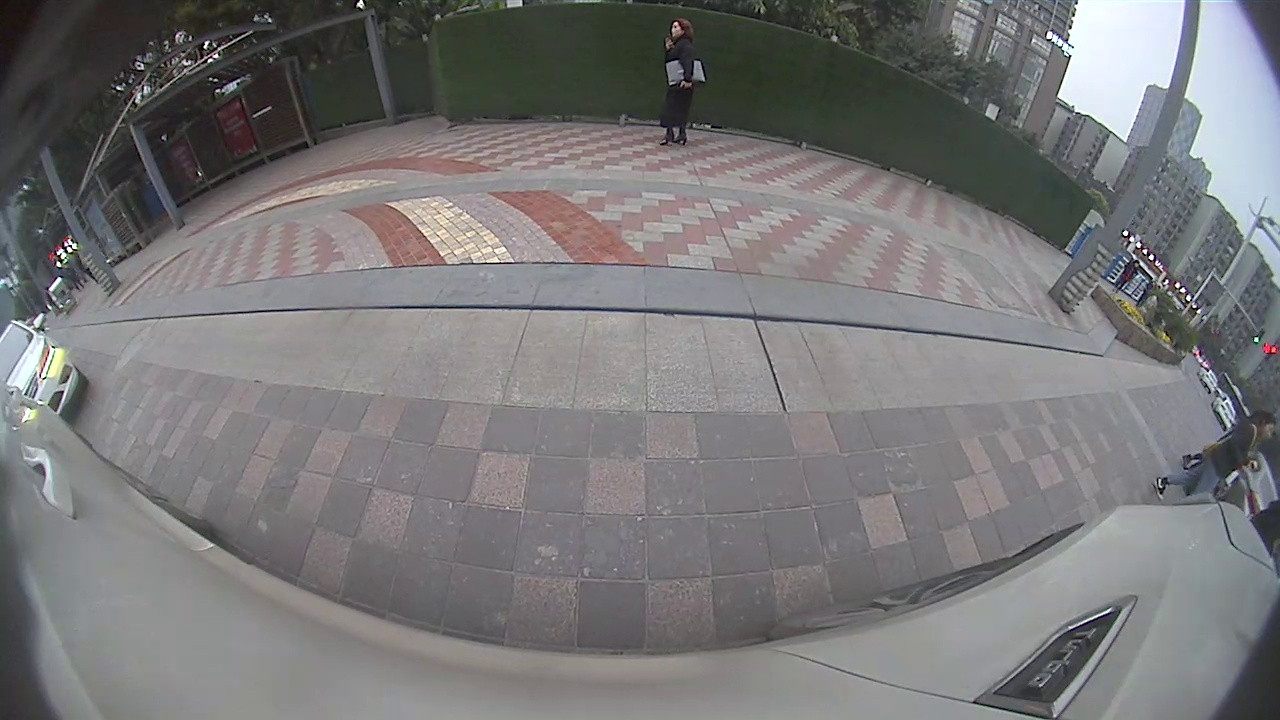car: (4, 311, 93, 420)
person: (1156, 411, 1277, 504), (670, 17, 694, 146)
